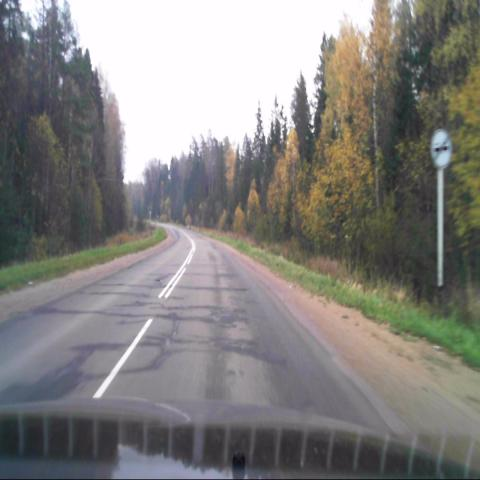3_21: (431, 128, 453, 170)
